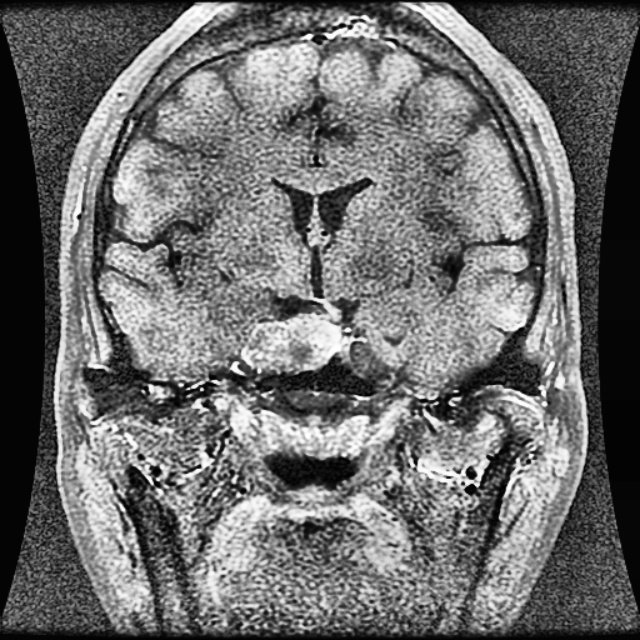Pituitary: (243, 314, 344, 373)
